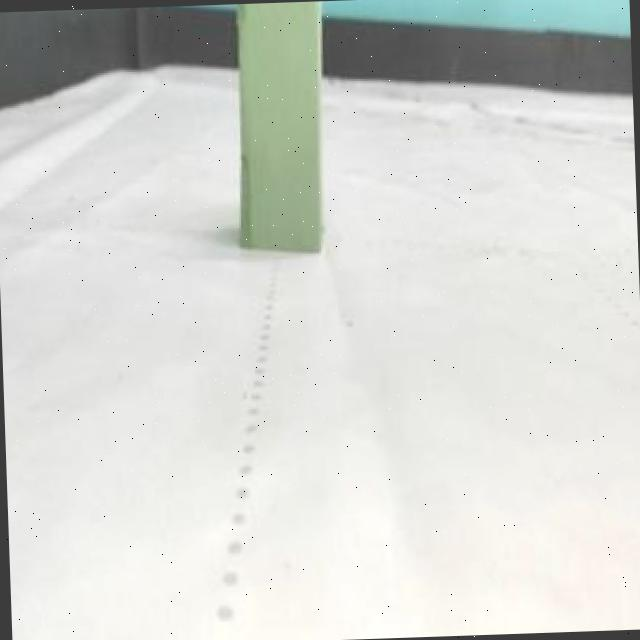greenbox: (232, 0, 324, 253)
